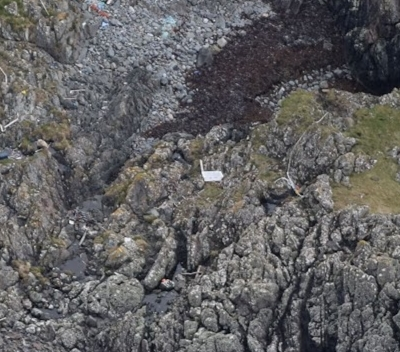cuboid: (195, 160, 230, 193)
